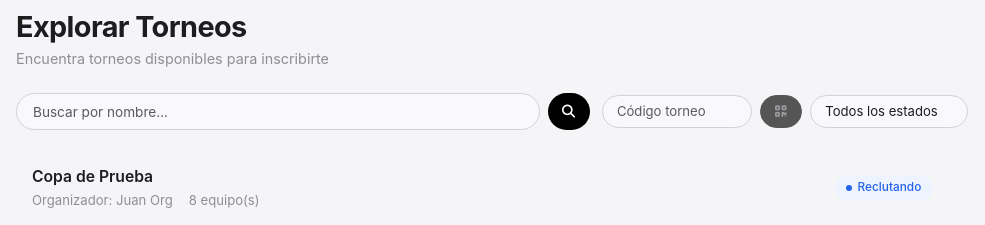
Scenario: BrowseTournaments › limpia los filtros y recarga
Expected: the text "Copa de Prueba" is shown, [32, 166, 153, 186]
Type "Copa" into the field with class "bt-search-input". click: x=278, y=112
box: [16, 93, 540, 130]
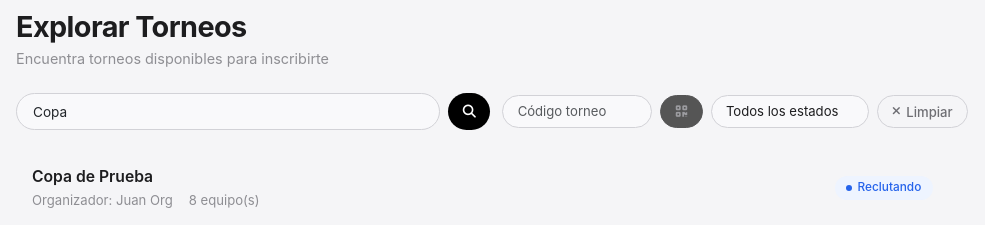
Submit the form with class "bt-search-form", box [16, 93, 490, 130]
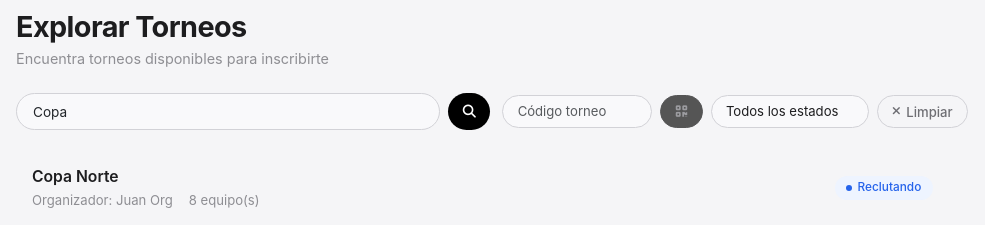
Expected: the text "Copa Norte" is shown, [32, 166, 119, 186]
Click the button with class "bt-clear-btn". click: x=922, y=112
box: [877, 95, 968, 128]
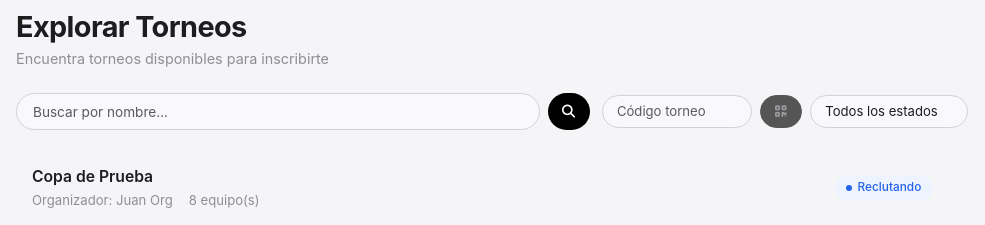
Expected: the text "Copa de Prueba" is shown, [32, 166, 153, 186]
Expected: the link "Copa Norte" is gone
